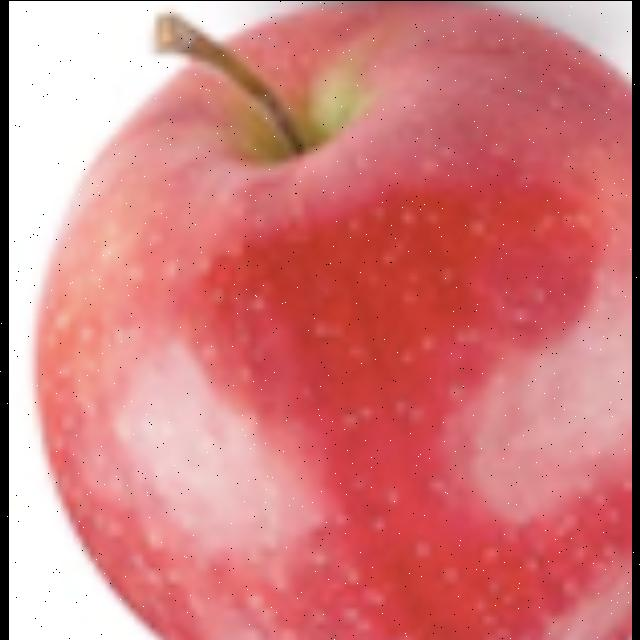Apel Segar: (33, 0, 632, 640)
